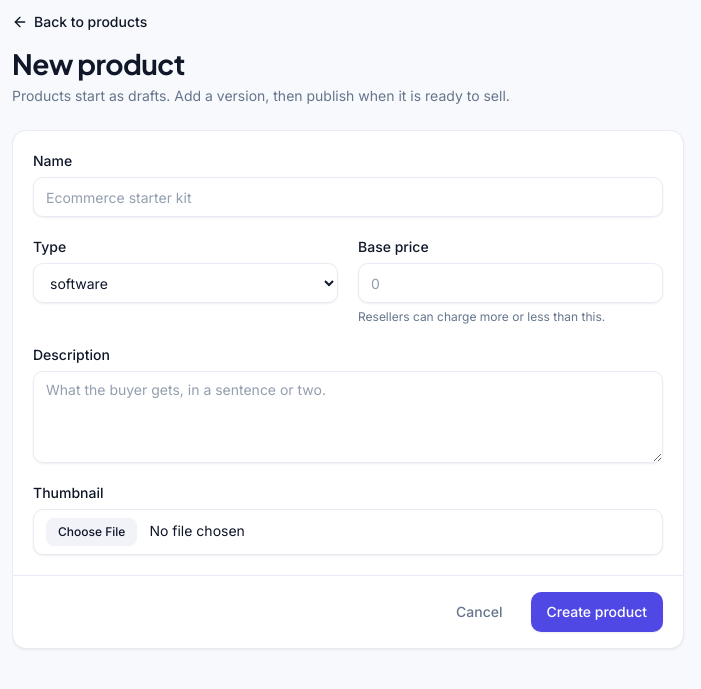
ProductFormPage › shows a validation error for an empty name
This screenshot has width=701, height=689.
Click the button "Create product": {"x": 597, "y": 612} [530, 592, 663, 632]
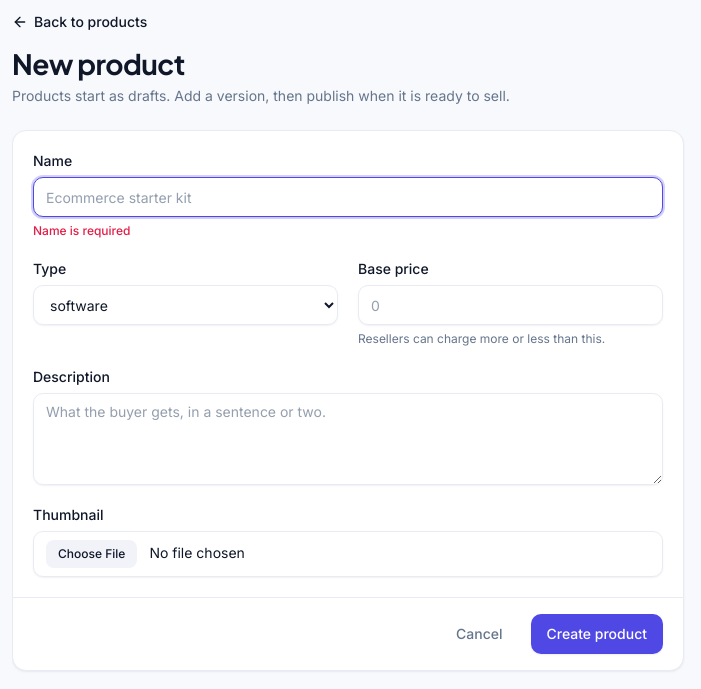
expect the text "Name is required" is shown: met, box [33, 223, 130, 238]
